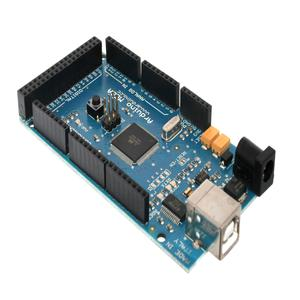duino: (14, 26, 281, 286)
